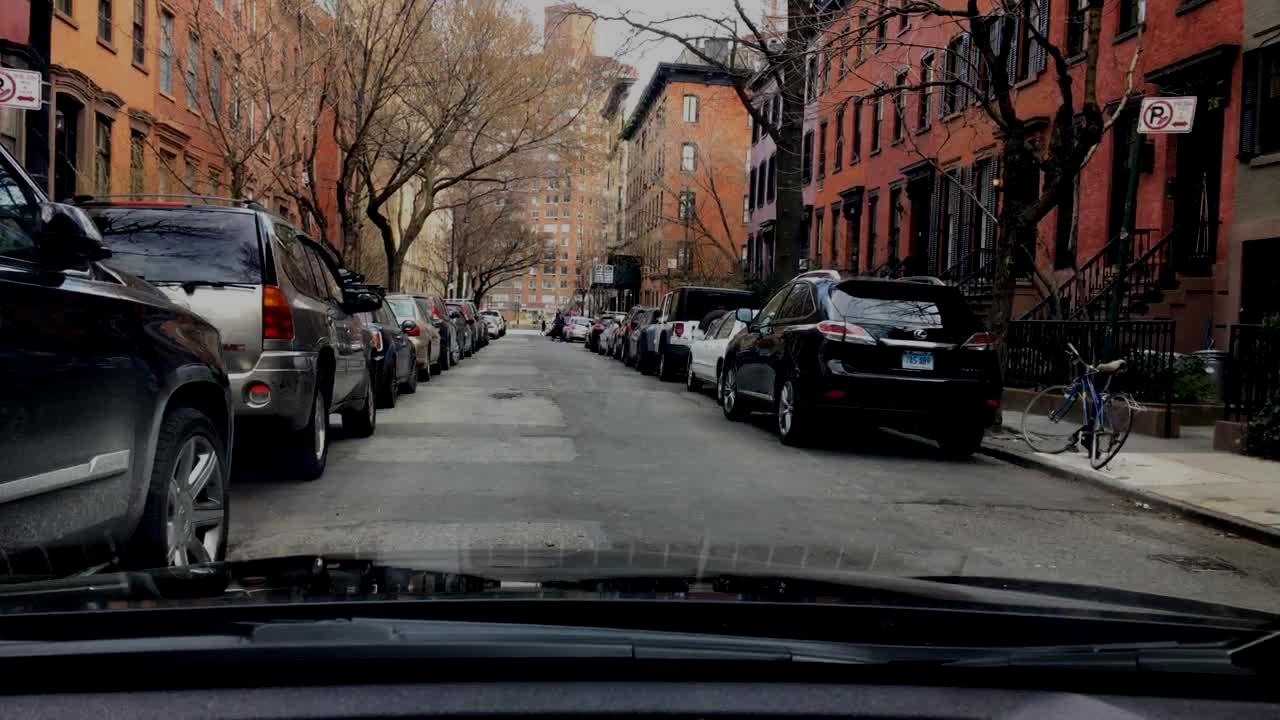lexus: (908, 321, 933, 342)
